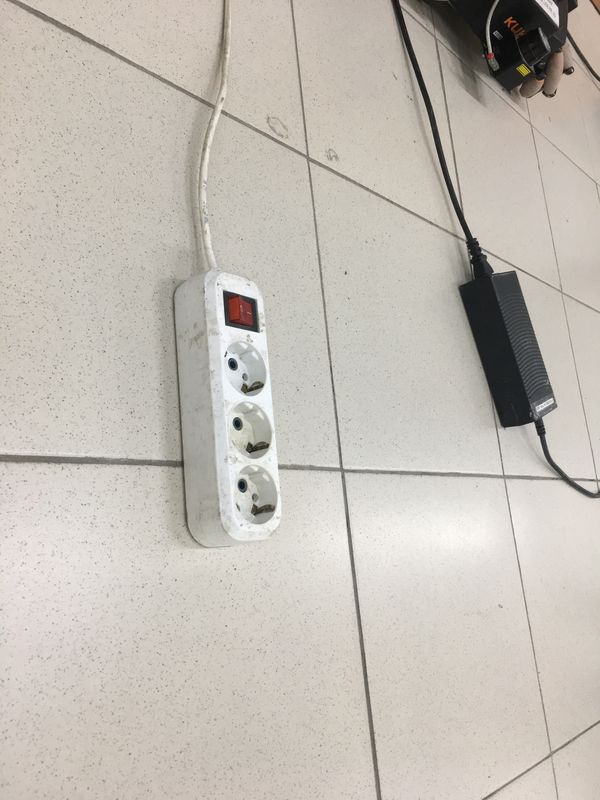socket: (164, 263, 296, 557)
